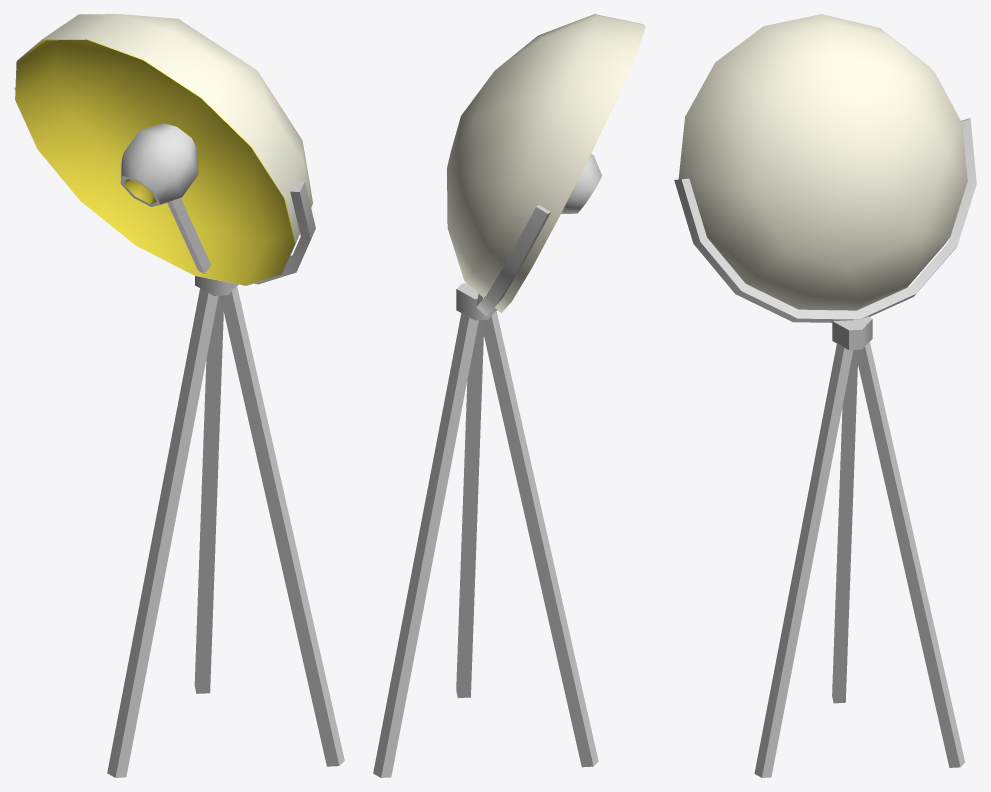
The model's file is lamp_015.glb.
3 renders of one model, left to right at view 1: azimuth 30°, elevation 25°; view 2: azimuth 150°, elevation 25°; view 3: azimuth 270°, elevation 25°, orthographic. The views are drawn at different scales.
Parts seen in each view (by area): view 1: lamp_015; view 2: lamp_015; view 3: lamp_015.
Boxes of the visible parts, left/top/right/bottom form: lamp_015: left=14, top=14, right=344, bottom=777; lamp_015: left=373, top=14, right=645, bottom=777; lamp_015: left=674, top=14, right=976, bottom=777.
Bounding box in the file's own units: 0.6201 × 1.91 × 0.7756.
Materials: 1 (1 with a texture image).
